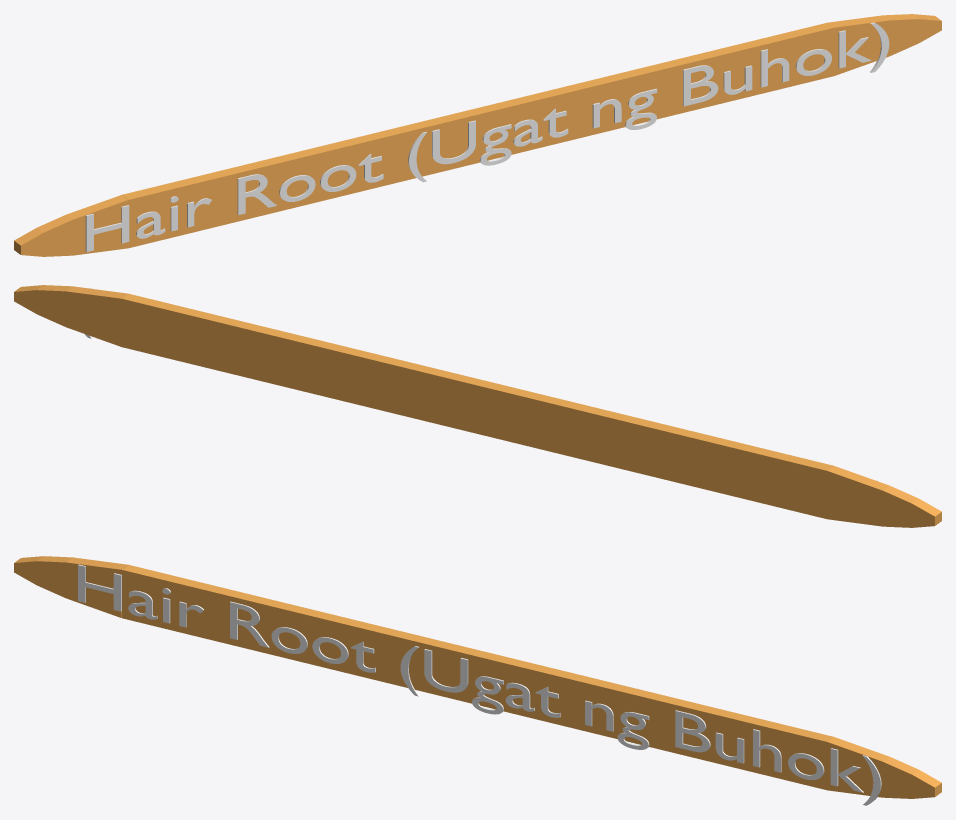
File: txtHairRoot.fbx
The picture shows the model from 3 angles, top to bottom: view 1: azimuth 30°, elevation 25°; view 2: azimuth 150°, elevation 25°; view 3: azimuth 330°, elevation 25°; orthographic projection.
Visible parts, largest first — view 1: TagContainer.070, Text.071; view 2: TagContainer.070; view 3: TagContainer.070, Text.071.
Part boxes in pixels (x1,y1,x2,y2): TagContainer.070: (14, 14, 941, 256); Text.071: (85, 22, 889, 252); TagContainer.070: (14, 285, 941, 527); TagContainer.070: (14, 556, 941, 798); Text.071: (78, 564, 881, 805).
Bounding box in the file's own units: 822 × 45.66 × 11.92.
